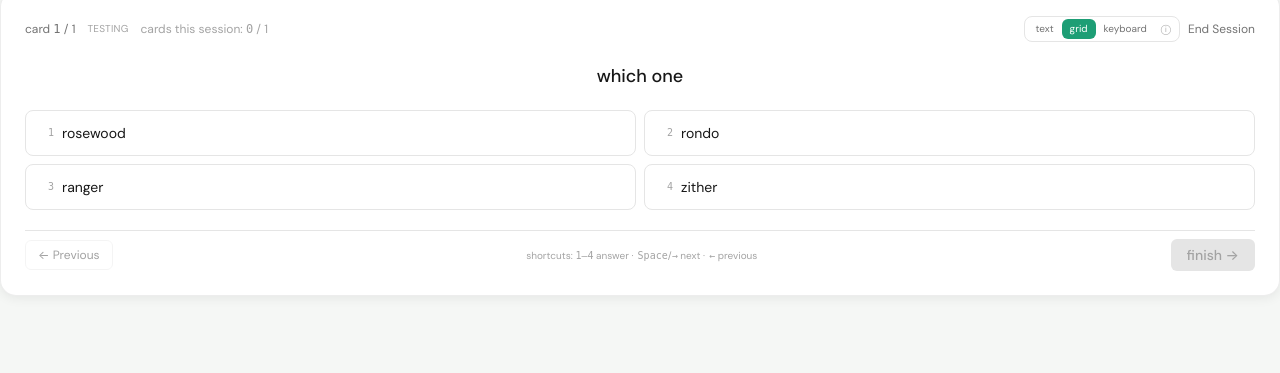
Test: the preview panel › closes again on a second press
Click the button with test id "visual-mode-preview-toggle" at (1166, 29), box [1155,19,1177,39]
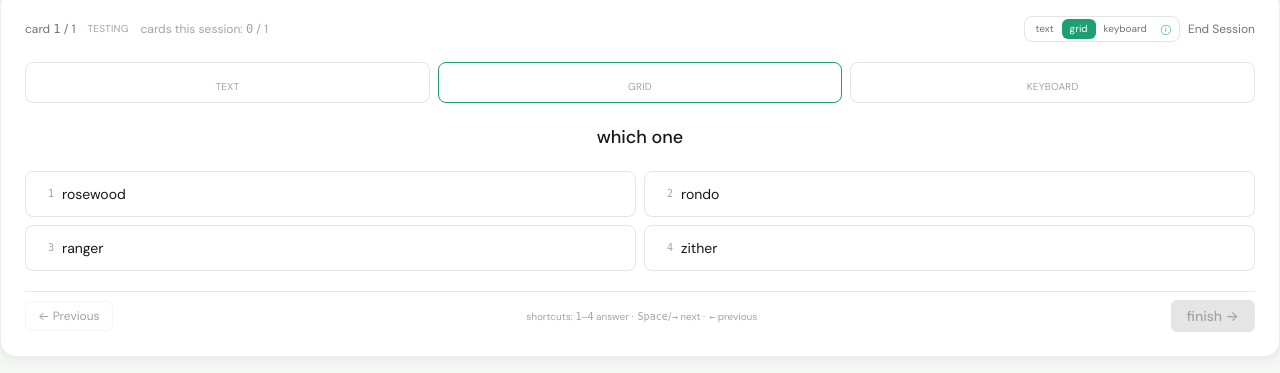
Now the element with test id "visual-mode-preview" is shown, box [25,62,1255,103]
Click the button with test id "visual-mode-preview-toggle" at (1166, 29), box [1155,19,1177,39]
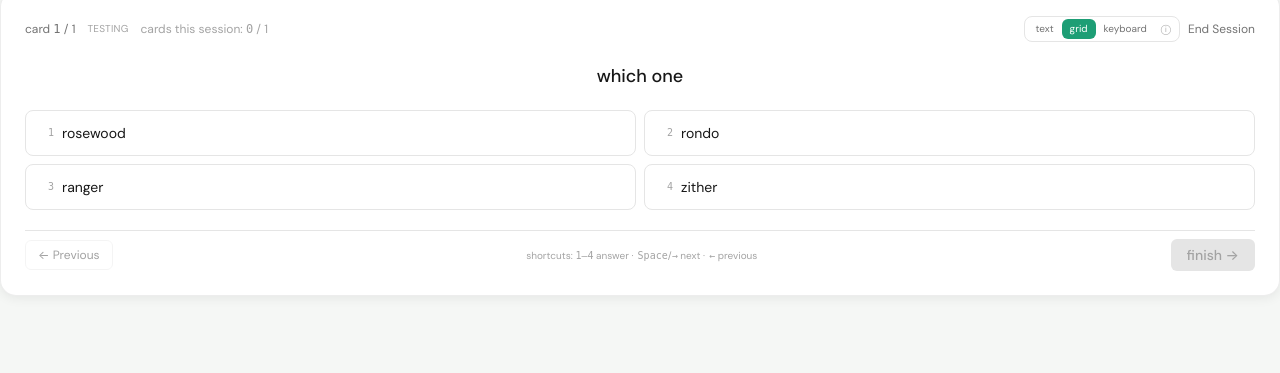
Now the element with test id "visual-mode-preview" is gone
